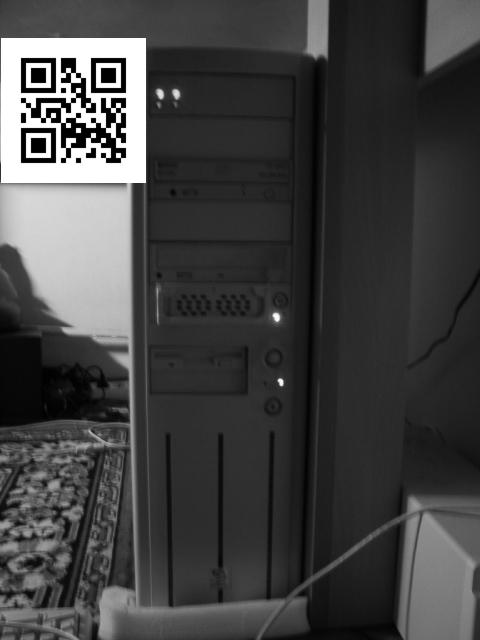qr_code: (1, 38, 146, 183)
